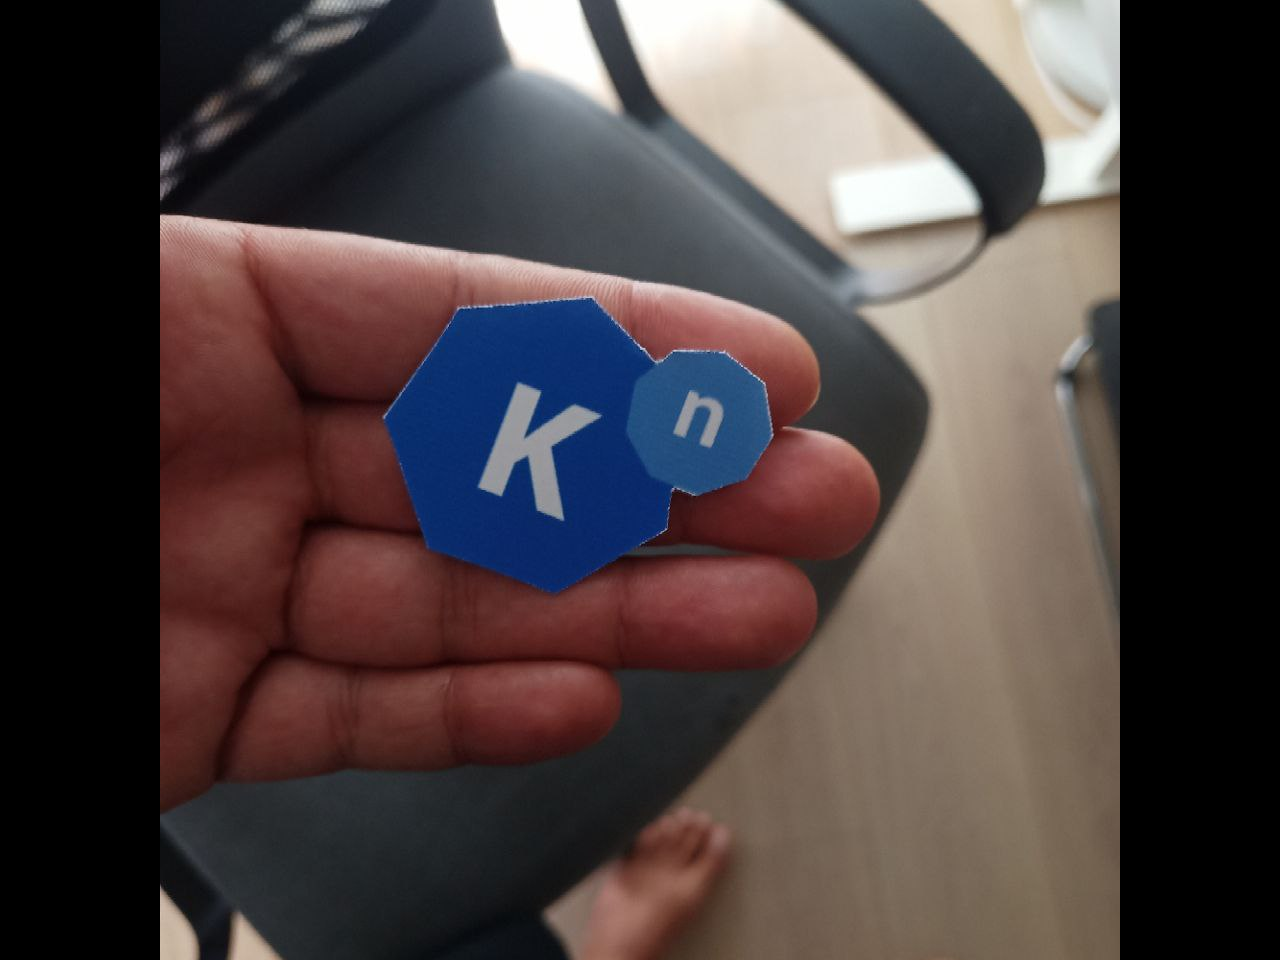knative: (378, 292, 775, 596)
